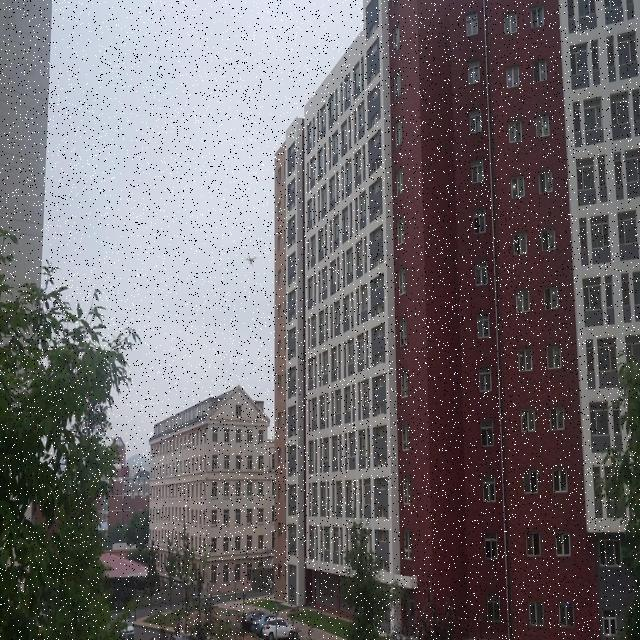UAV: (244, 255, 258, 266)
